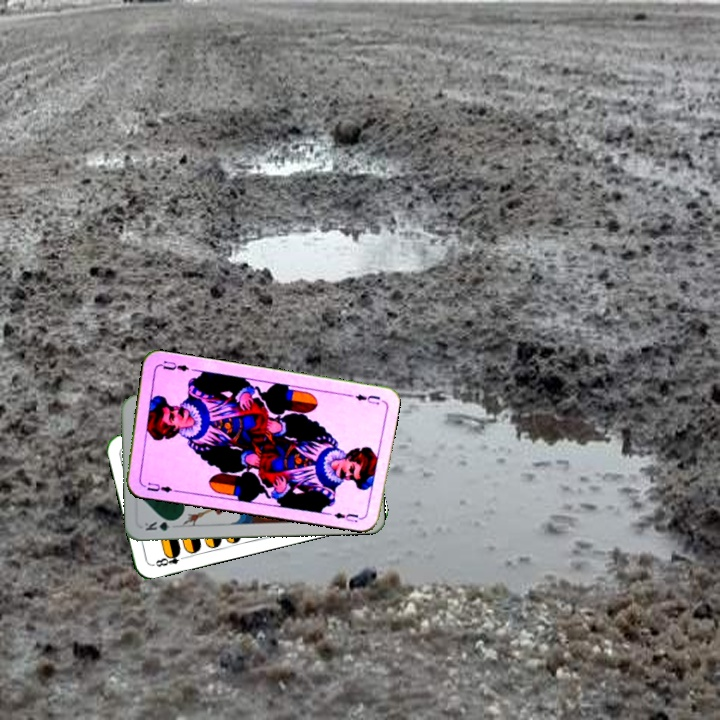E8: (149, 548, 189, 569)
EU: (343, 390, 383, 407), (143, 478, 175, 495)
GK: (141, 516, 180, 534)
